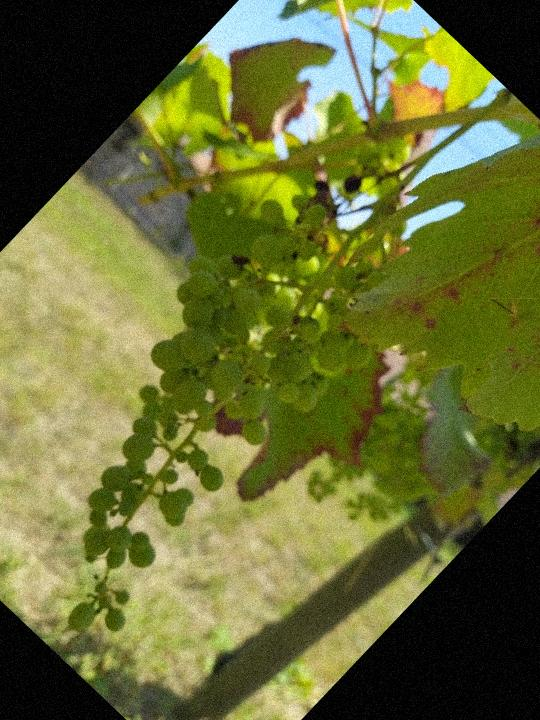grape: (0, 163, 431, 655)
